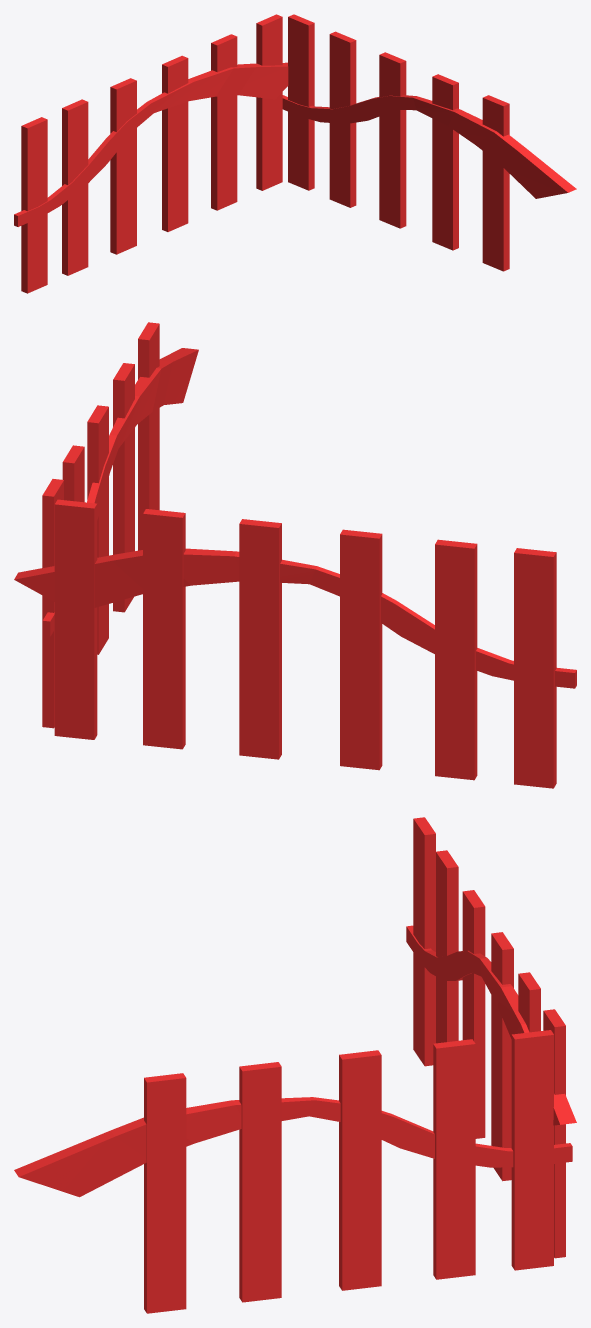
The model's file is walldecor.obj.
3 renders of one model, top to bottom at view 1: azimuth 30°, elevation 25°; view 2: azimuth 150°, elevation 25°; view 3: azimuth 270°, elevation 25°, orthographic. The views are drawn at different scales.
Parts seen in each view (by area): view 1: walldecor; view 2: walldecor; view 3: walldecor.
Part boxes in pixels (box(x1,y1,x2,y2)): walldecor: box(14, 14, 576, 293); walldecor: box(14, 322, 576, 788); walldecor: box(14, 817, 576, 1313).
Bounding box in the file's own units: 0.6012 × 0.2252 × 0.4969.
